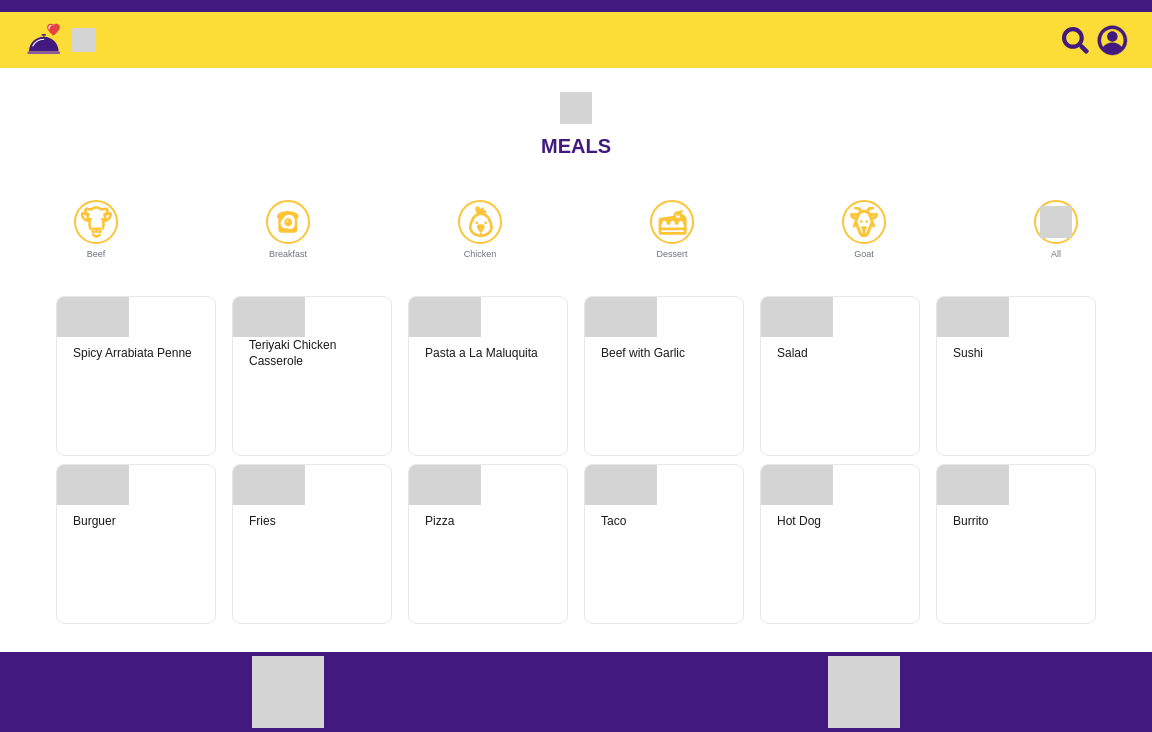
Test: SearchBar › should render when clicking the serch icon
The width and height of the screenshot is (1152, 732).
Click the button with test id "search-top-btn". click: coordinates (1076, 40)
box: [1062,12,1089,68]
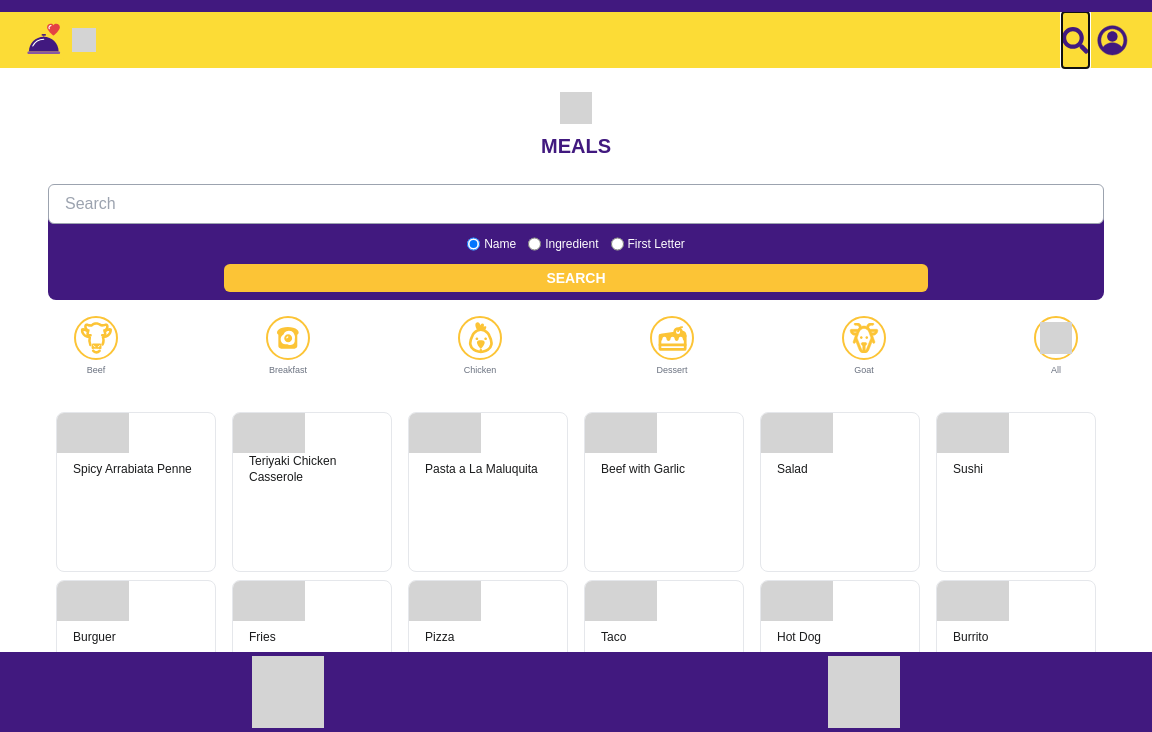
Now the radio button with test id "name-search-radio" is shown, box [467,236,480,252]
Now the radio button with test id "first-letter-search-radio" is shown, box [610,236,624,252]
Now the radio button with test id "ingredient-search-radio" is shown, box [528,236,541,252]
